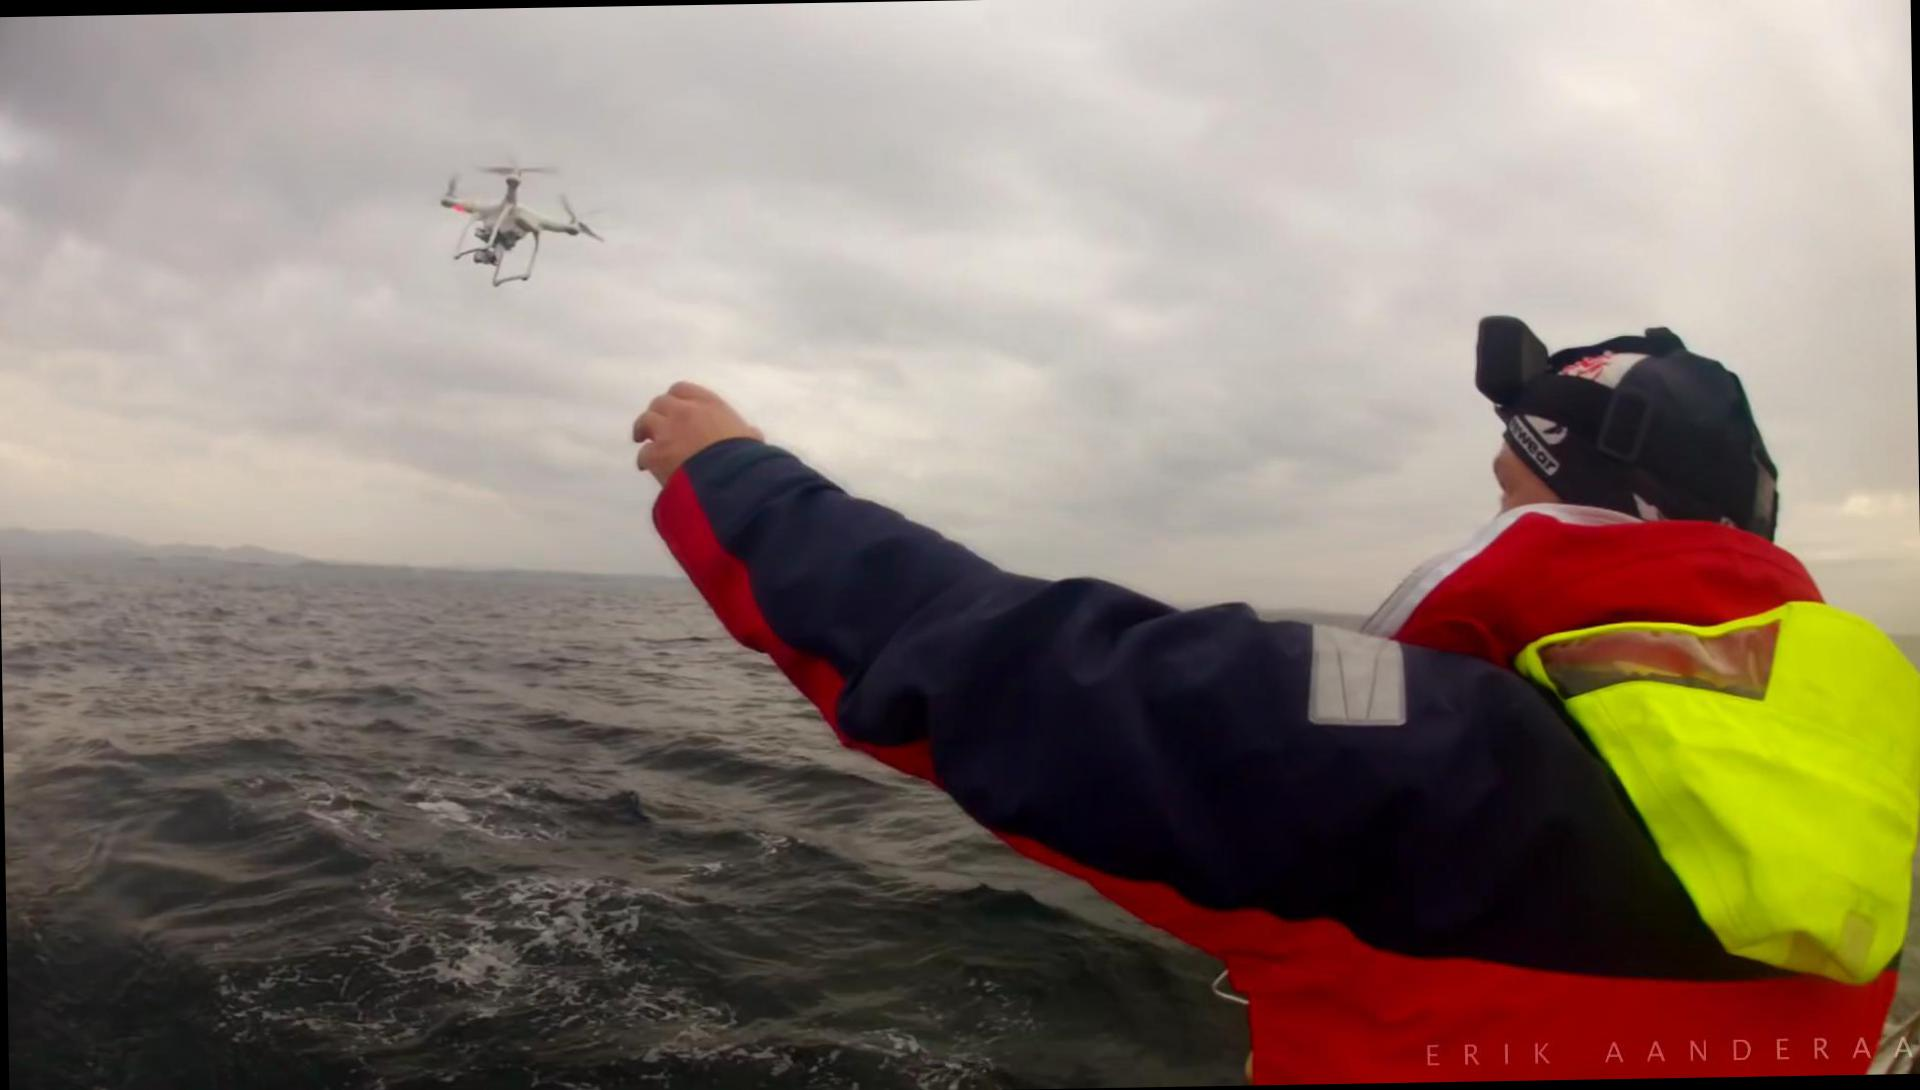drone: (430, 149, 605, 290)
